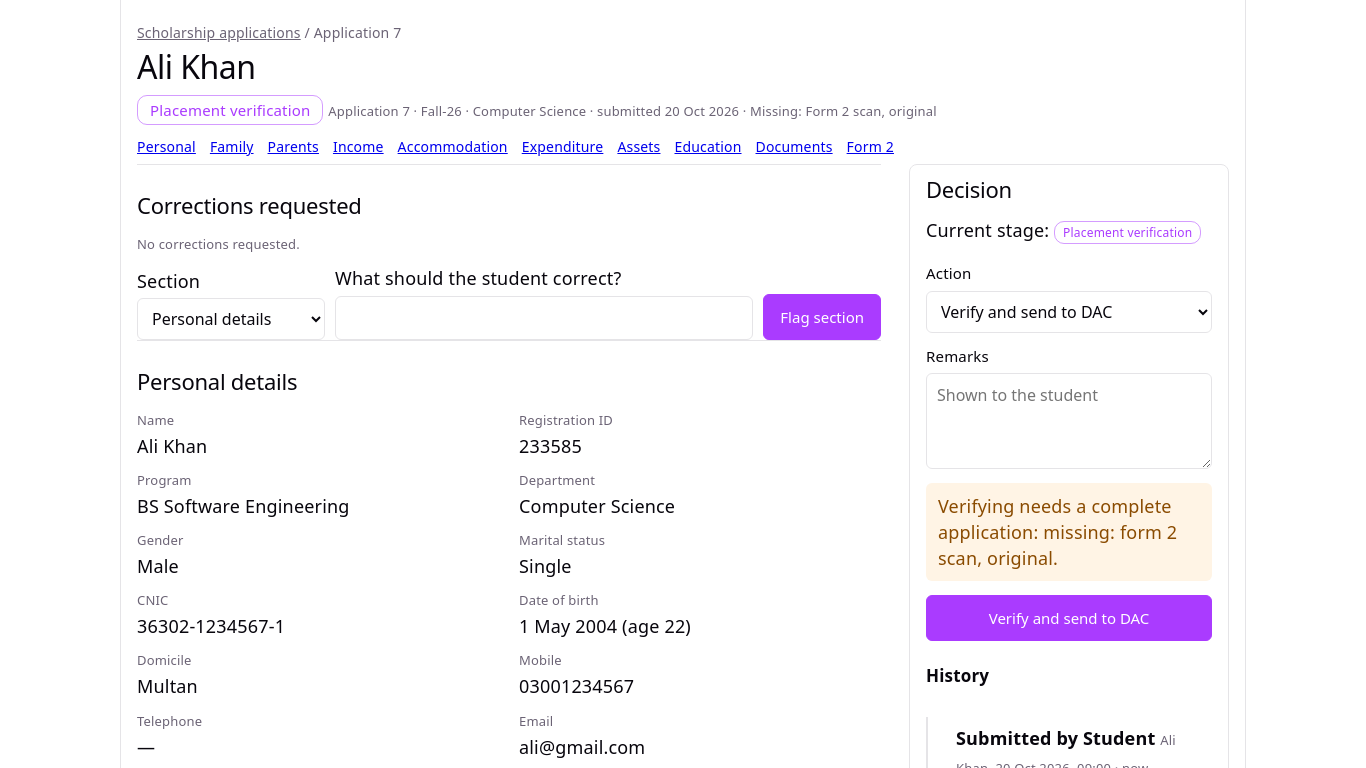
it: an action is saved with remarks and added to the history
Select "Return to student" in the dropdown labelled "Action" at (1069, 312), box top-left (926, 290), bottom-right (1212, 332)
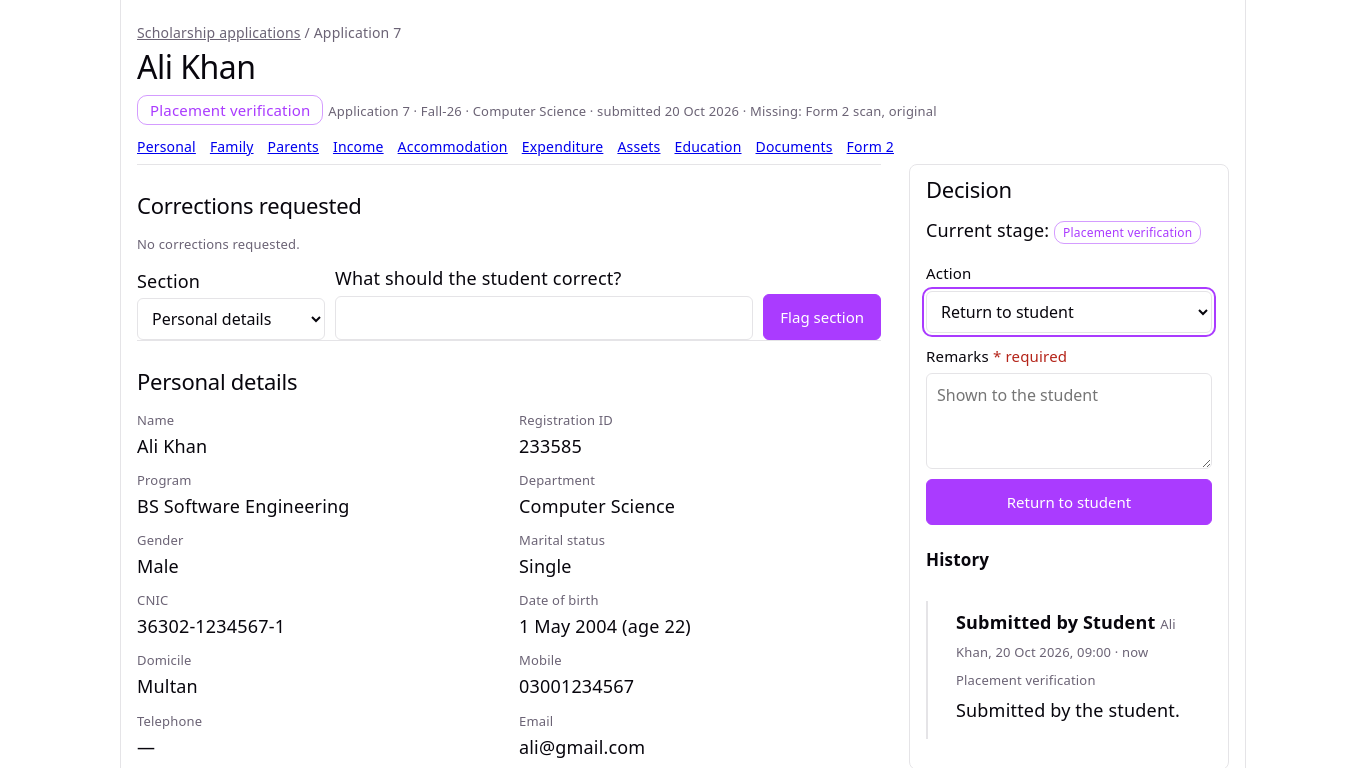
Type "Bank statement is unreadable." into the text box labelled "Remarks * required" at (1069, 421), box top-left (926, 373), bottom-right (1212, 469)
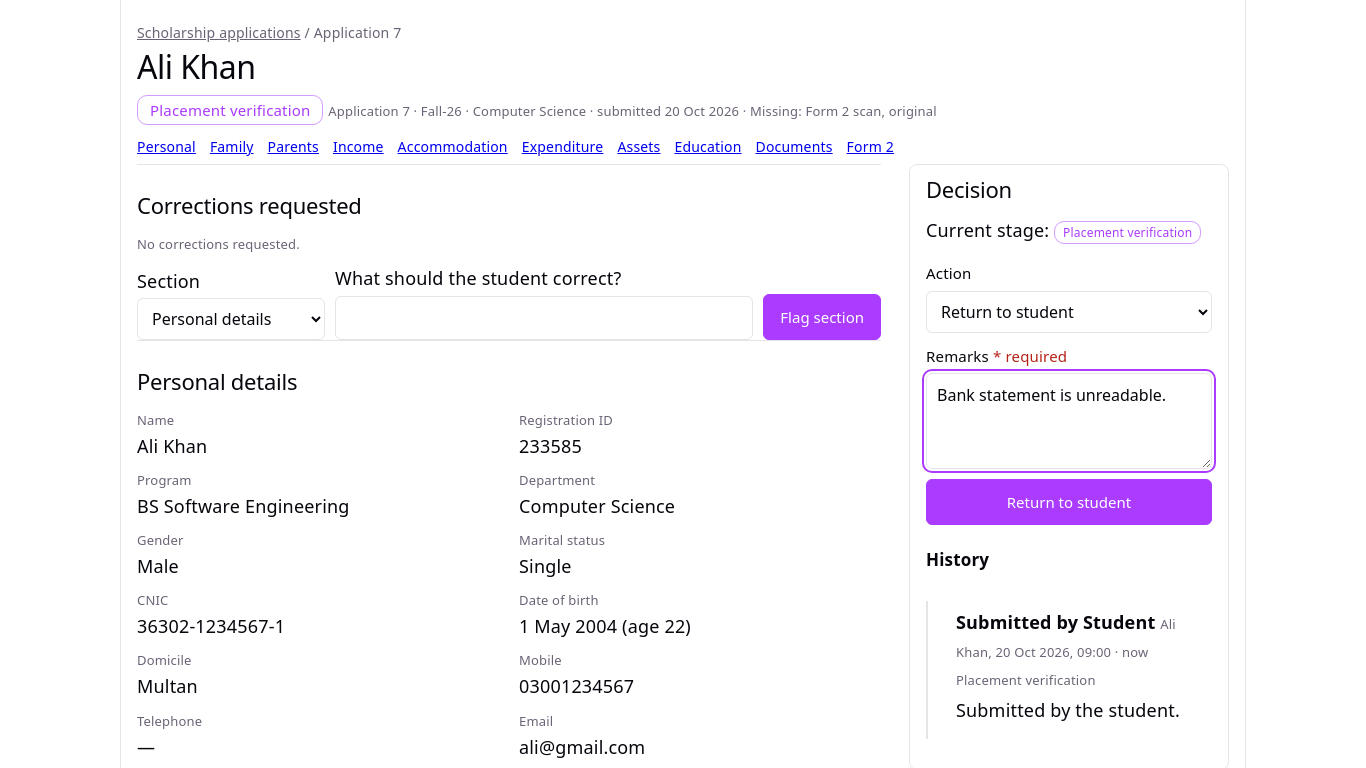
Click the button "Return to student" at (1069, 502), box top-left (926, 479), bottom-right (1212, 525)
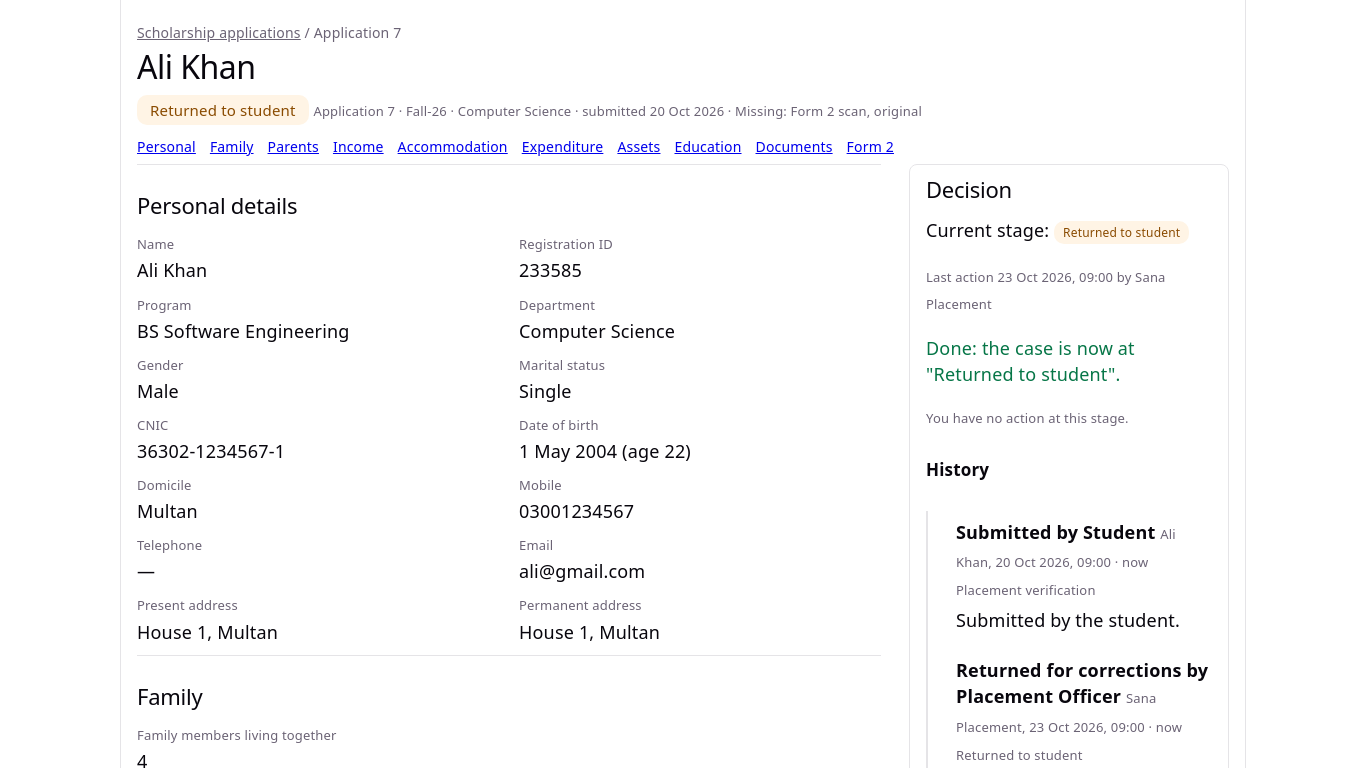
Result: the message reads "Done: the case is now at \"Returned to student\"." at top-left (926, 336), bottom-right (1135, 386)
Result: the text "Returned for corrections by Placement Officer" is shown at top-left (956, 658), bottom-right (1208, 708)
Result: the text "Sana Placement, 23 Oct 2026, 09:00 · now Returned to student" is shown at top-left (956, 690), bottom-right (1182, 764)
